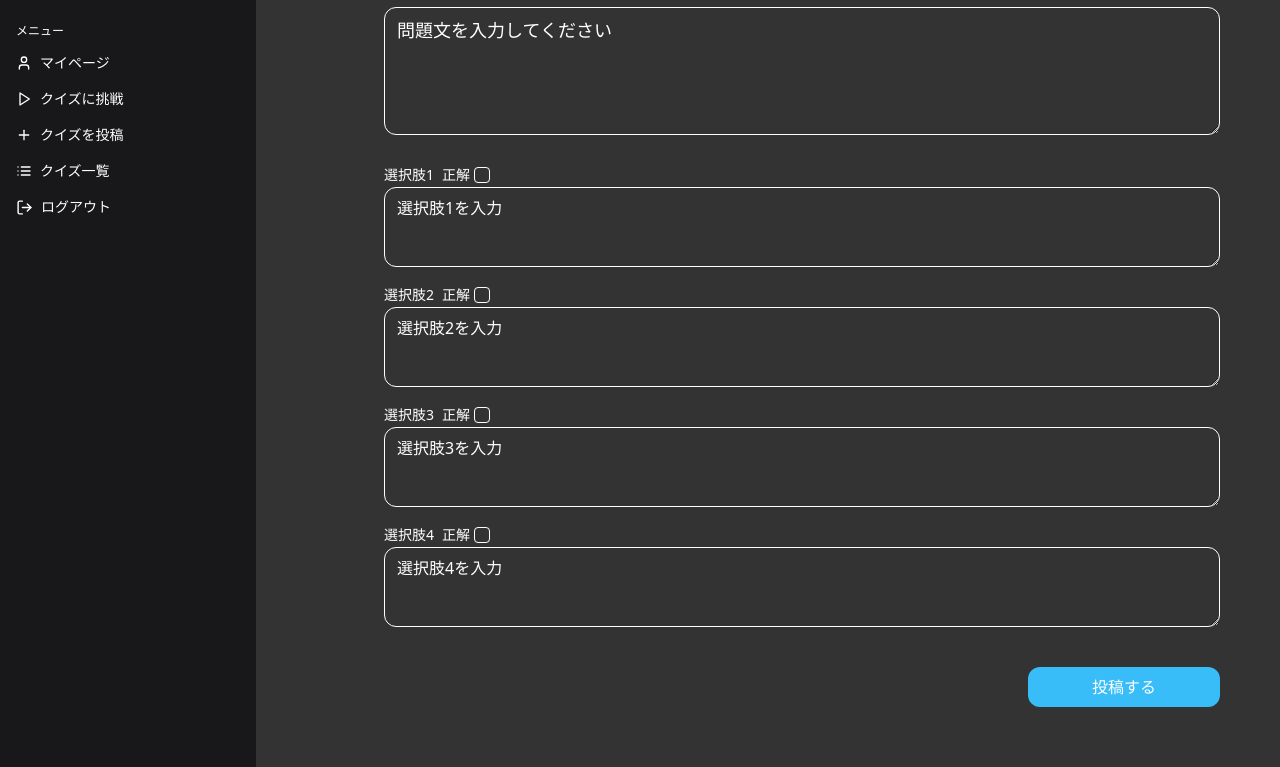
Scenario: クイズ投稿フォーム › バリデーションエラーがでる
The width and height of the screenshot is (1280, 767).
(page scrolled)
Click the button "投稿する" at (1124, 687), box x1=1028 y1=667 x2=1220 y2=707
(page scrolled)
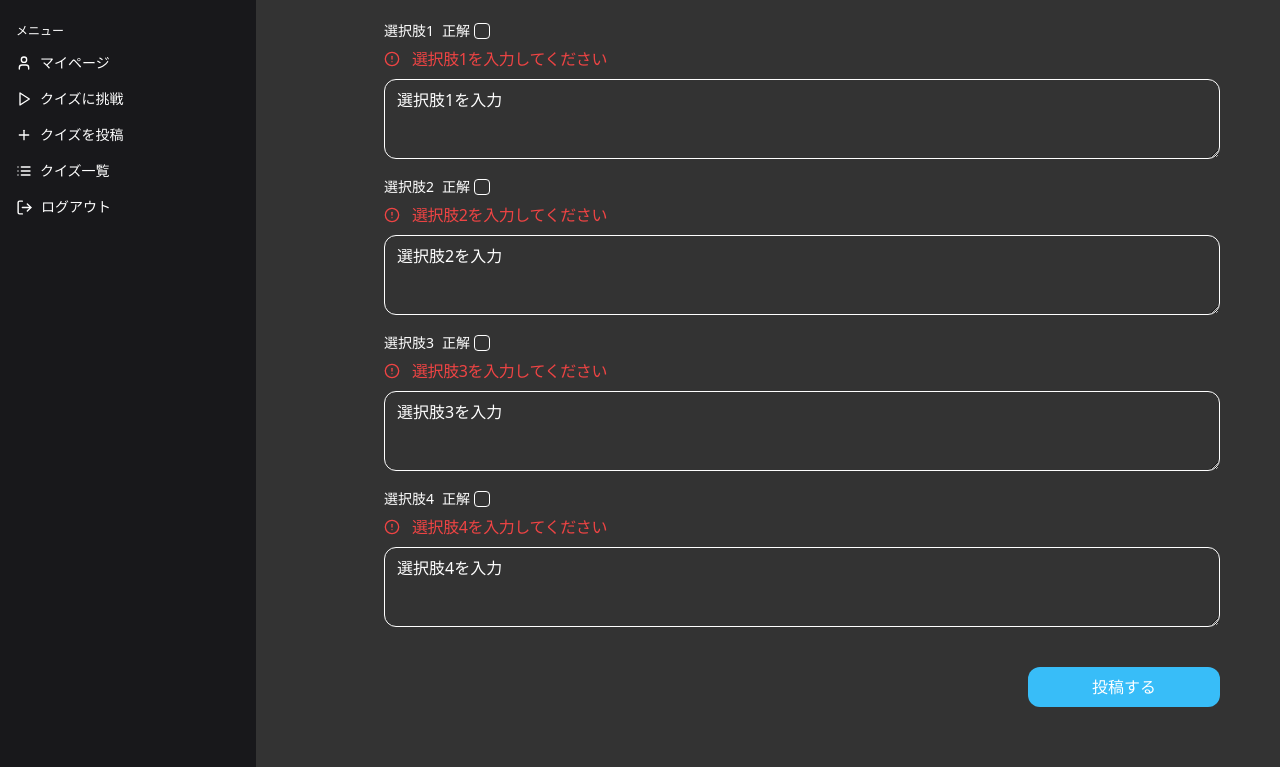
Now the heading "選択肢1を入力してください" is shown, box x1=412 y1=48 x2=607 y2=70
Now the heading "選択肢2を入力してください" is shown, box x1=412 y1=204 x2=607 y2=226
Now the heading "選択肢3を入力してください" is shown, box x1=412 y1=360 x2=607 y2=382
